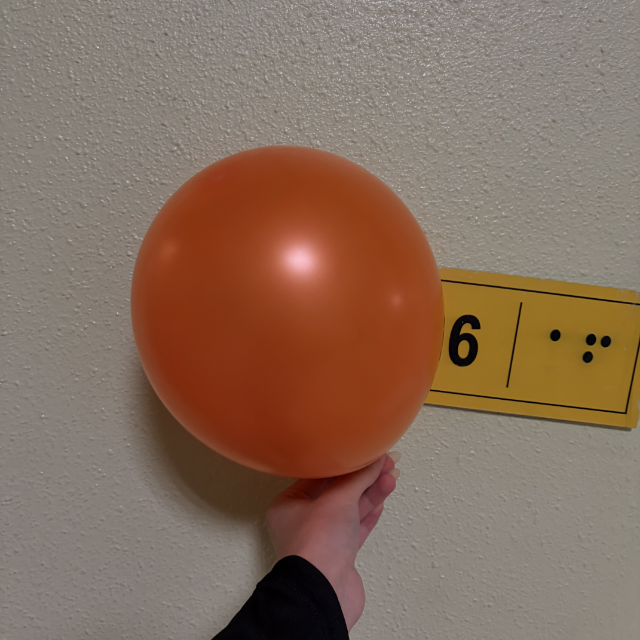balloon: (131, 146, 445, 481)
